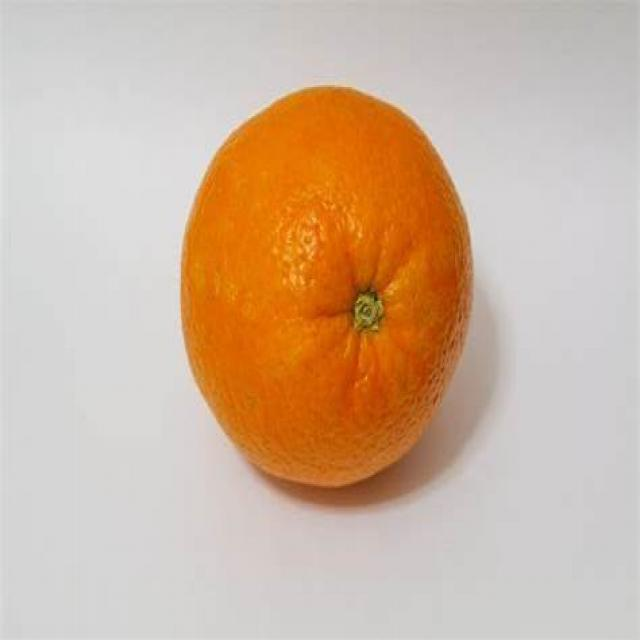Orange: (179, 83, 473, 491)
